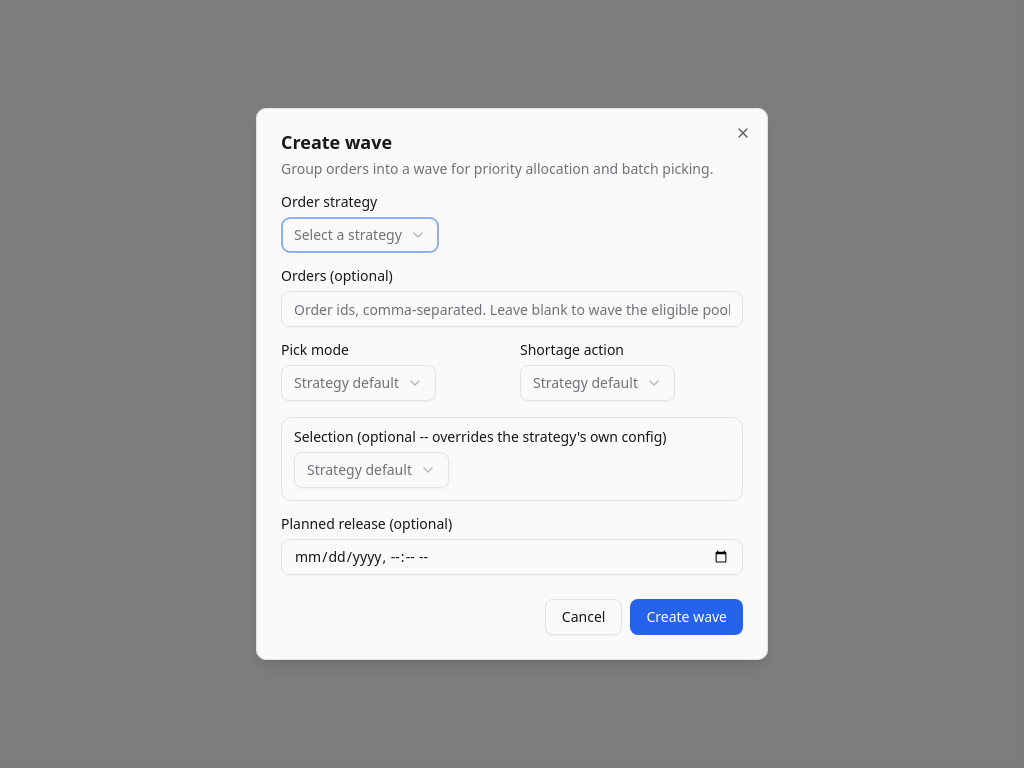
Test: CreateWaveDialog -- Selection section › shows the rule select only once rule-based is chosen, populated from the rules list
The image size is (1024, 768).
Click the dropdown with test id "wave-selection-strategy-select" at (371, 470), box [294,452,449,488]
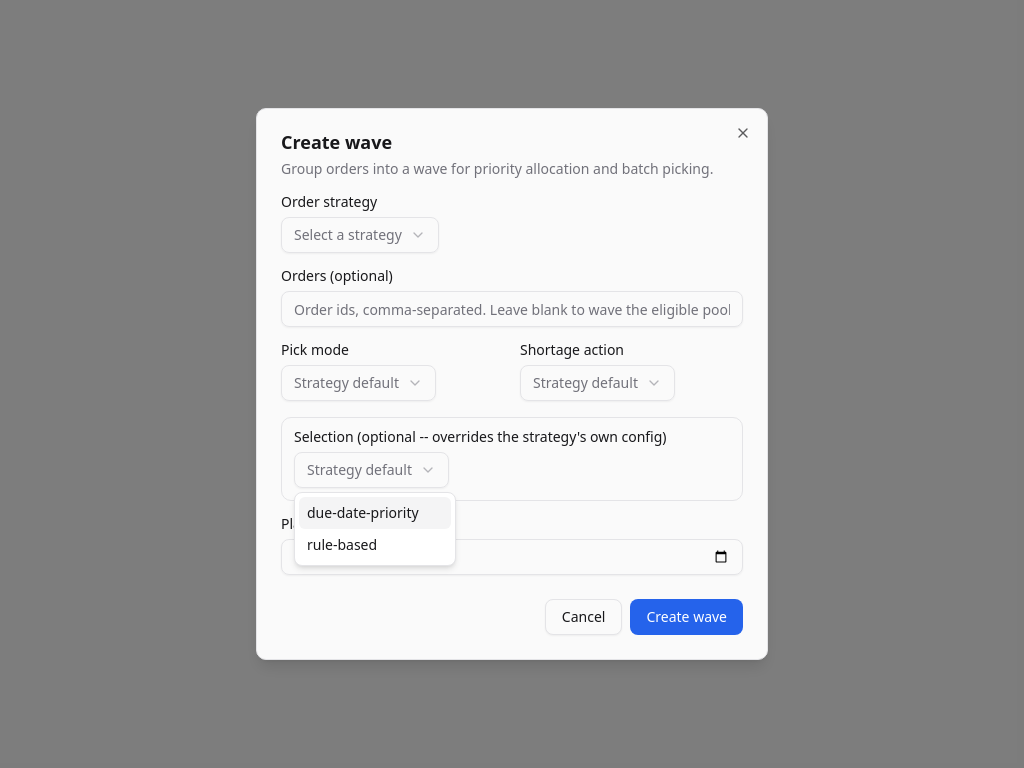
Click the option "rule-based" at (342, 544), box [307,535,377,554]
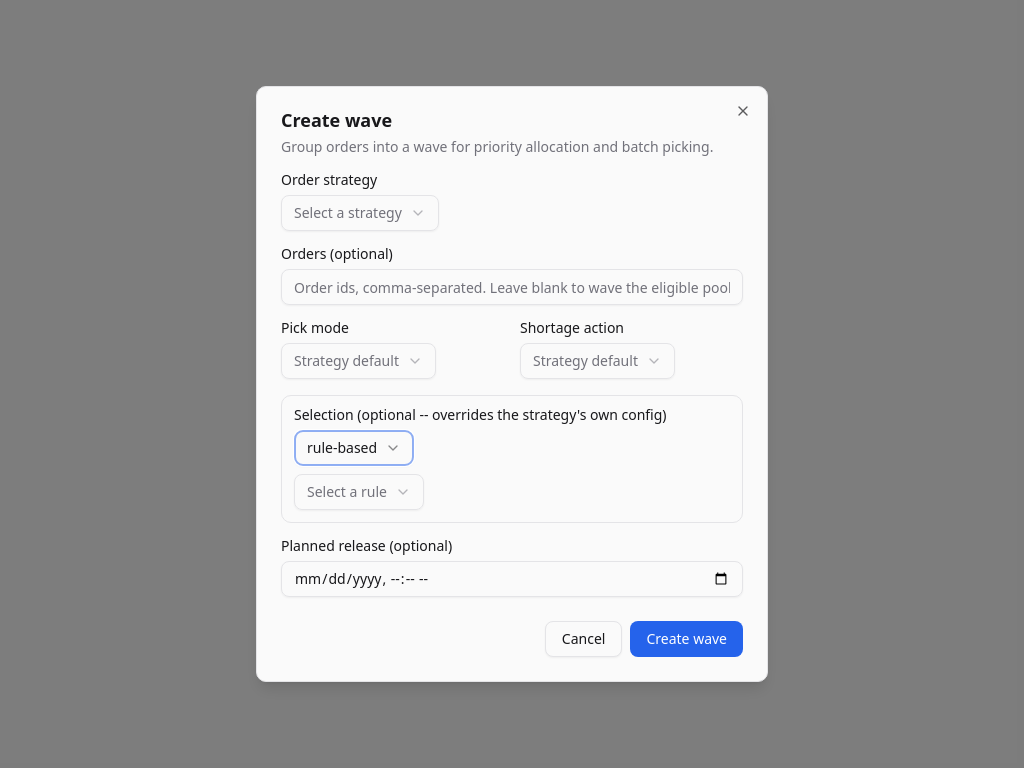
Result: the dropdown with test id "wave-selection-rule-select" is shown
Click the dropdown with test id "wave-selection-rule-select" at (359, 492), box [294,474,424,510]
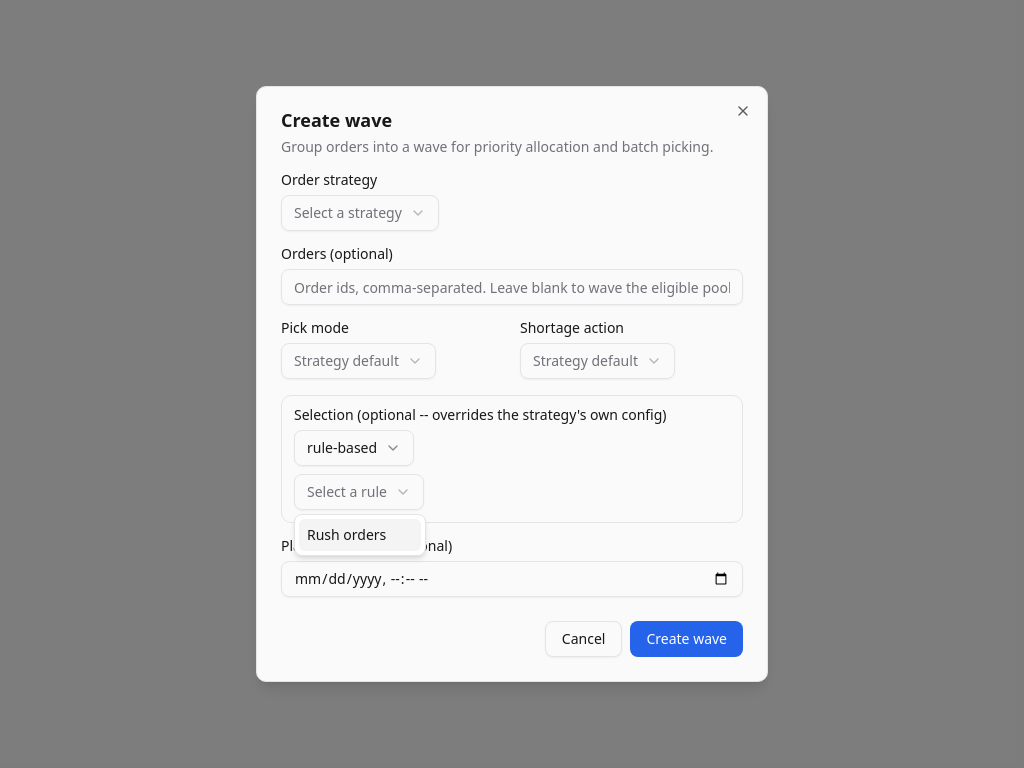
Result: the text "Rush orders" is shown at [307,525,386,545]
